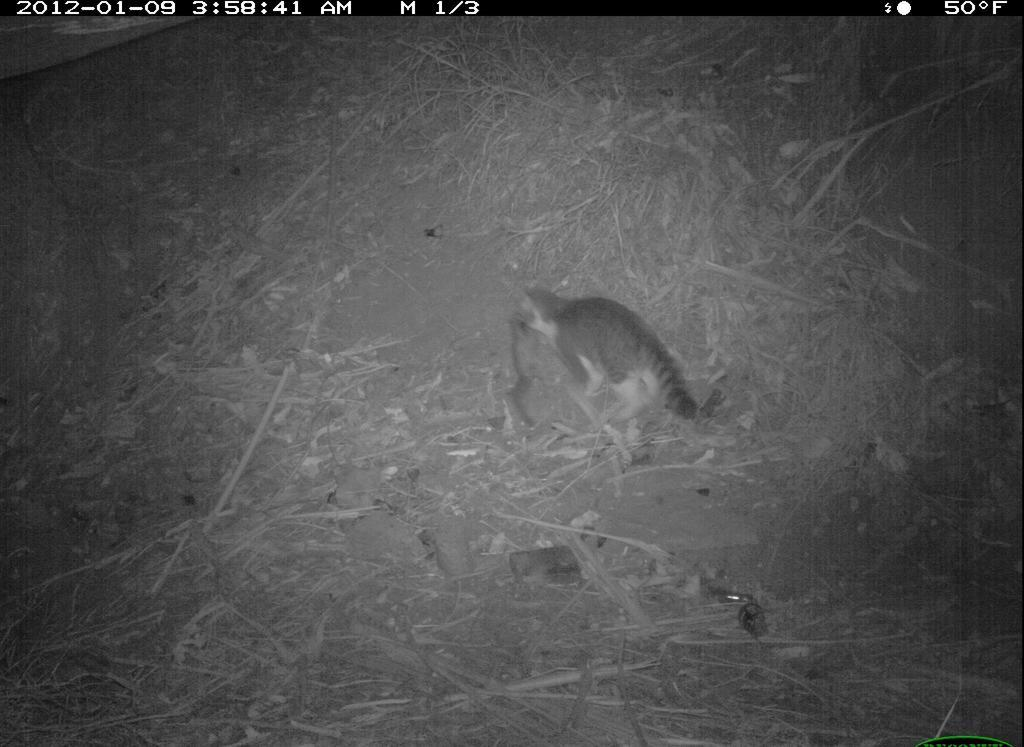cat: (506, 277, 712, 457)
